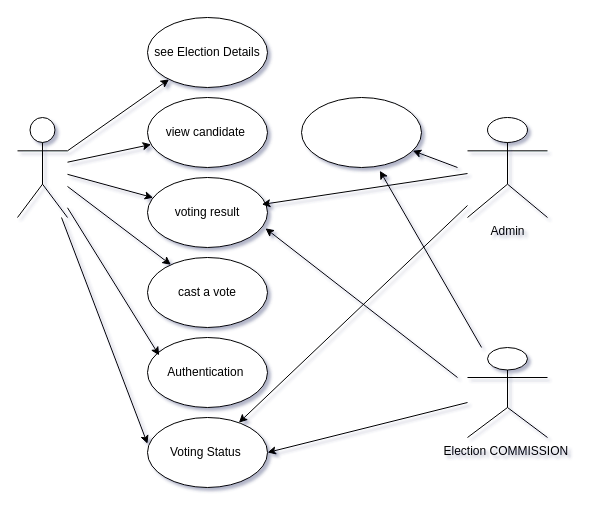
This 595x511 diagram has some shape labels left out. The box of each missing label's shape, as (x1, y1, x2, y2) in pixels:
edit candidates: (300, 96, 422, 168)
User: (16, 116, 68, 218)
